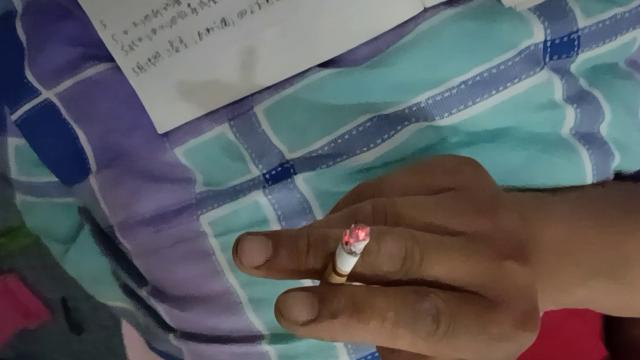Smoking: (314, 222, 372, 298)
